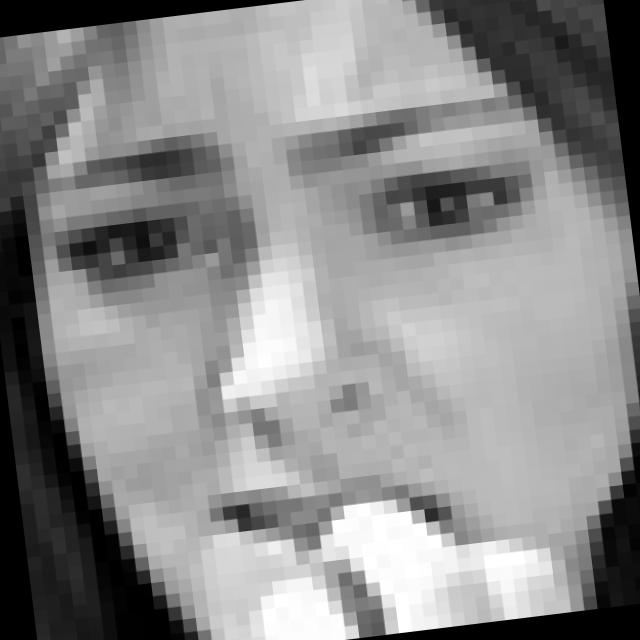fear: (42, 78, 580, 605)
